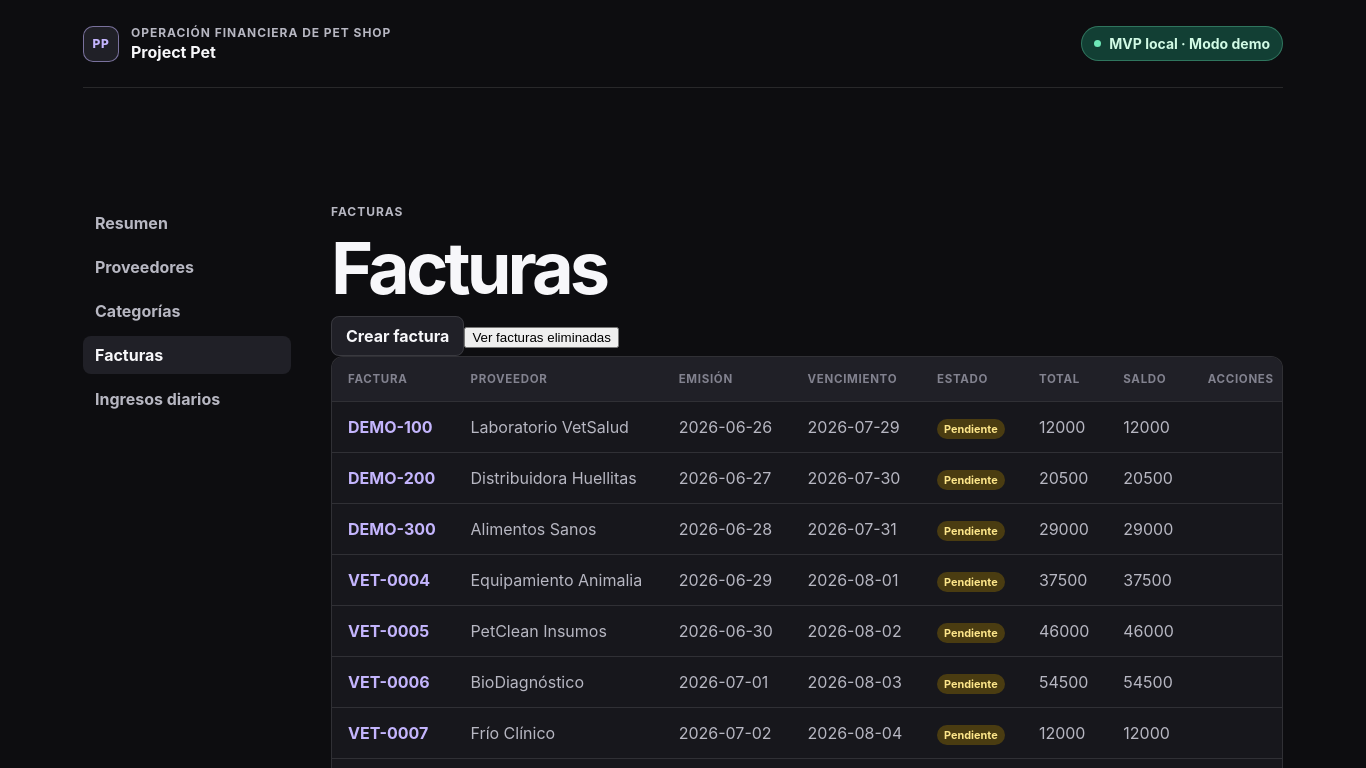
AppRouter › routes active invoice list links to a full derived-status detail page
Click the link "DEMO-200": click(392, 478) [348,468,435,488]
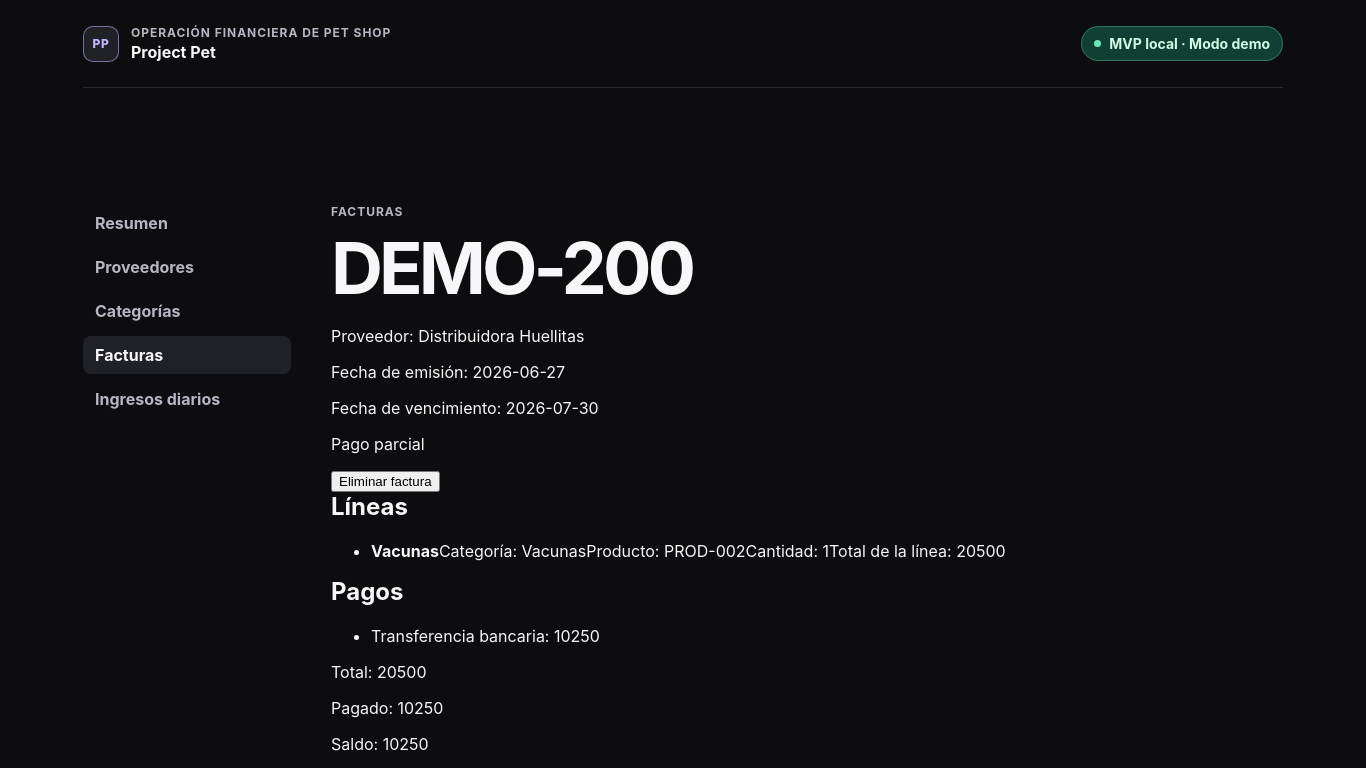
expect the heading "DEMO-200" is shown: met, box [331,224,692,311]
expect the text named "Estado: Pago parcial" reads "Pago parcial": met, box [331,434,425,454]
expect the text "Saldo: 10250" is shown: met, box [331,734,429,754]
